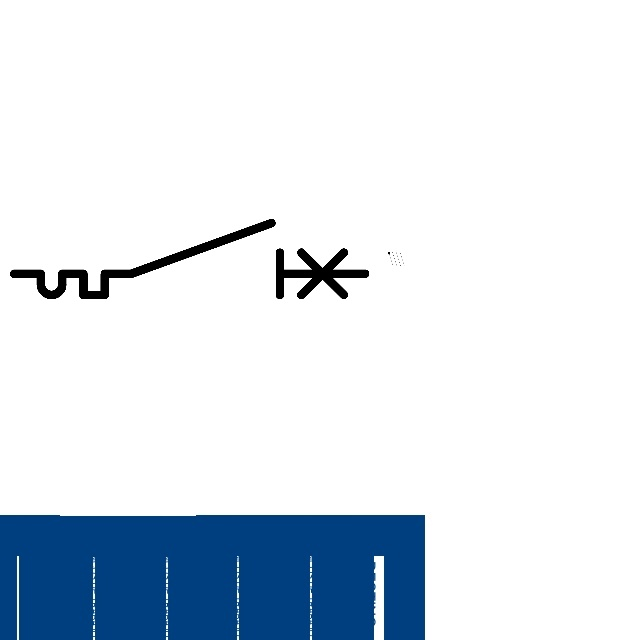interruptor_termomagnetico: (5, 214, 374, 304)
